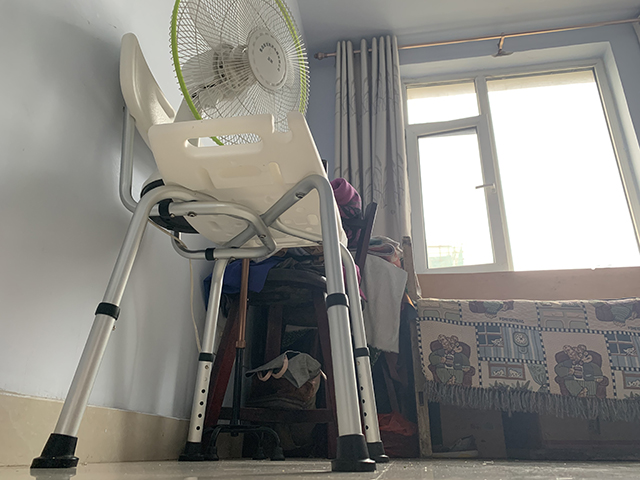bed: (401, 235, 640, 463)
stool: (28, 31, 390, 475), (196, 267, 342, 461)
